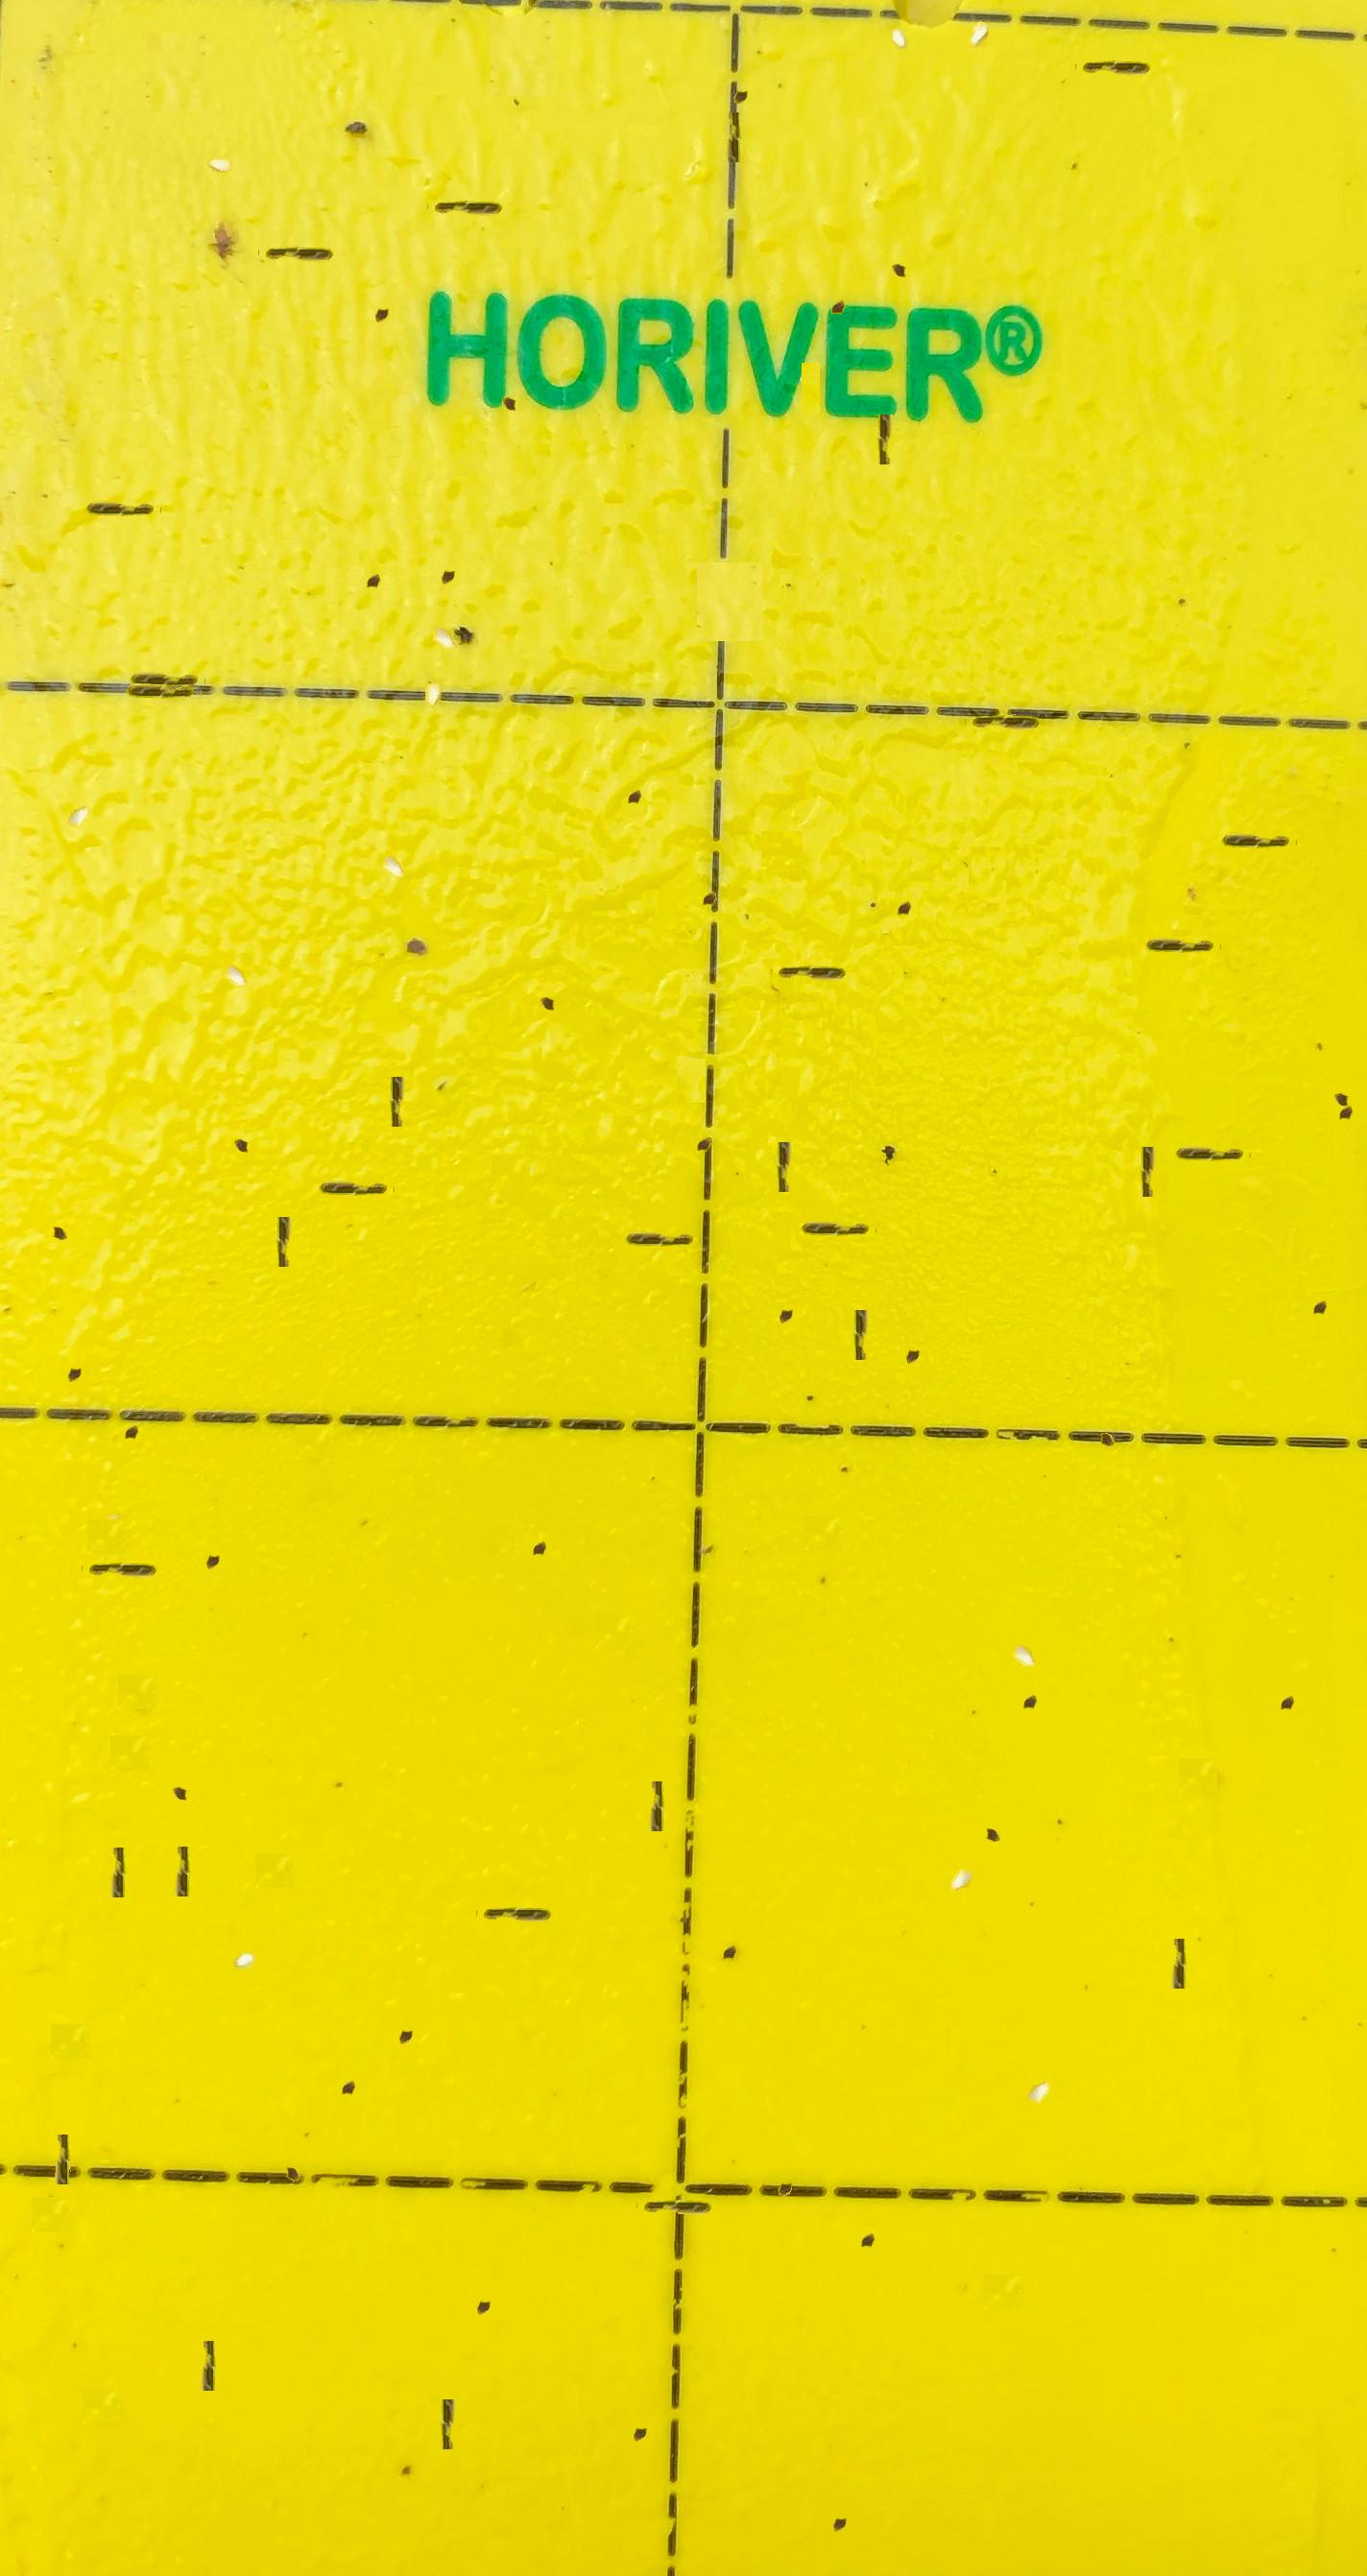white_fly: (225, 1889, 268, 1937), (1002, 1590, 1045, 1634), (372, 801, 414, 845), (58, 753, 101, 797), (423, 572, 465, 617), (941, 1814, 983, 1857), (1018, 2029, 1060, 2072), (215, 911, 256, 954), (414, 637, 457, 675), (201, 111, 242, 148)
